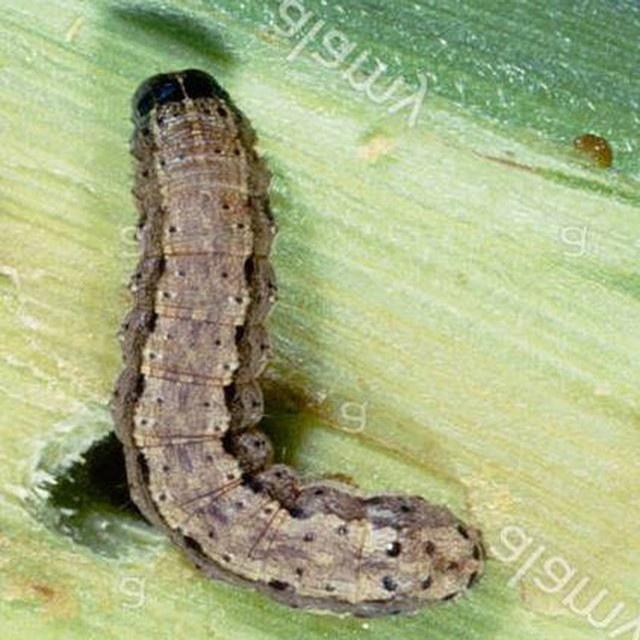gusano_cogollero: (123, 67, 490, 615)
